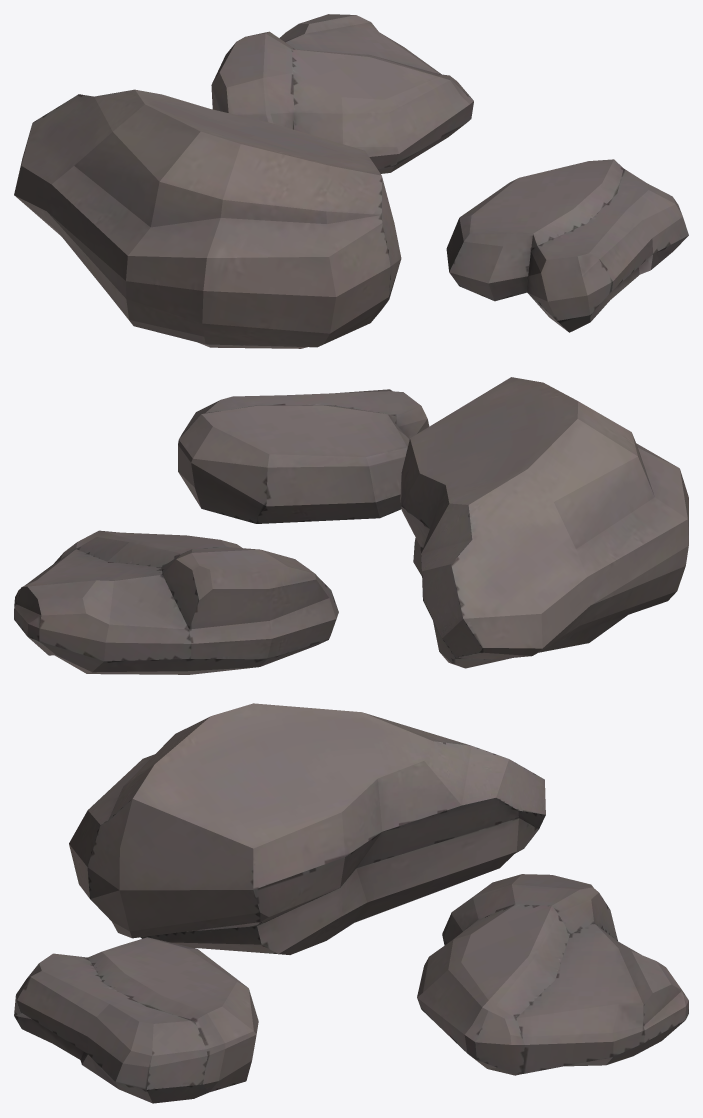
The picture shows the model from 3 angles, top to bottom: view 1: azimuth 30°, elevation 25°; view 2: azimuth 150°, elevation 25°; view 3: azimuth 270°, elevation 25°; orthographic projection. The views are drawn at different scales.
Visible parts, largest first — view 1: body0_model0_lod0_mesh0; view 2: body0_model0_lod0_mesh0; view 3: body0_model0_lod0_mesh0.
Boxes of the visible parts, <box> form: body0_model0_lod0_mesh0: <box>14,14,688,348</box>; body0_model0_lod0_mesh0: <box>14,377,688,674</box>; body0_model0_lod0_mesh0: <box>14,703,688,1103</box>.
Size of the model in its own units: 165 by 57.53 by 177.
1 material, 1 textured.
